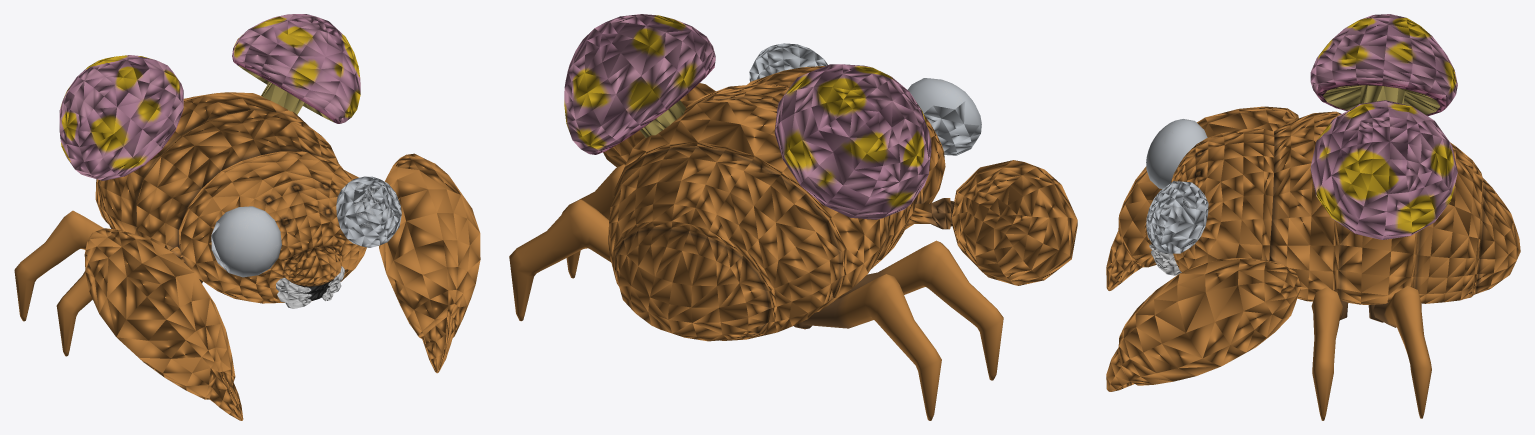
The model's file is 046 Paras-1.gltf.
3 views of the same model, side by side, from view 1: azimuth 30°, elevation 25°; view 2: azimuth 150°, elevation 25°; view 3: azimuth 270°, elevation 25° (orthographic). The views are drawn at different scales.
Visible parts, largest first — view 1: Paras; view 2: Paras; view 3: Paras.
Boxes of the visible parts, box(x1,y1,x2,y2) form: Paras: box(14, 14, 480, 420); Paras: box(509, 14, 1077, 420); Paras: box(1106, 14, 1520, 420).
Size of the model in its own units: 119 by 80.58 by 110.
Materials: 2 (2 with a texture image).
